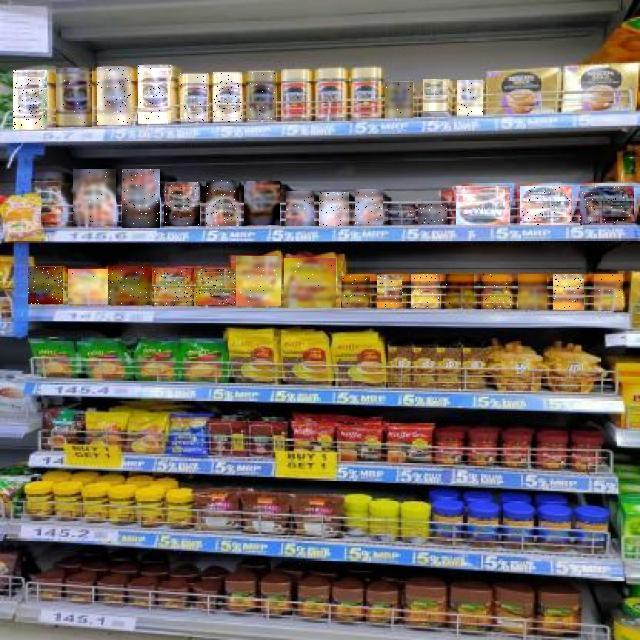Coffee: (284, 258, 336, 307), (73, 170, 116, 226), (236, 256, 281, 306), (123, 169, 161, 228), (56, 68, 92, 127), (456, 186, 510, 225), (580, 186, 634, 225), (13, 70, 47, 130), (520, 186, 572, 225), (97, 67, 131, 125), (138, 65, 171, 124), (108, 266, 152, 305), (245, 181, 281, 225), (165, 182, 201, 226), (154, 268, 194, 306), (206, 180, 239, 226), (213, 73, 242, 123), (247, 72, 277, 120), (196, 269, 236, 305), (69, 270, 109, 306), (180, 73, 209, 122), (28, 267, 63, 304), (480, 275, 511, 311), (553, 275, 584, 311), (518, 275, 547, 311), (594, 275, 623, 311), (319, 192, 349, 226), (424, 80, 452, 116), (385, 82, 413, 118), (355, 190, 383, 226), (411, 274, 440, 308), (286, 192, 314, 226), (446, 274, 474, 308), (457, 81, 483, 117), (378, 275, 406, 308), (342, 276, 370, 307), (418, 204, 447, 224), (388, 204, 415, 225)
